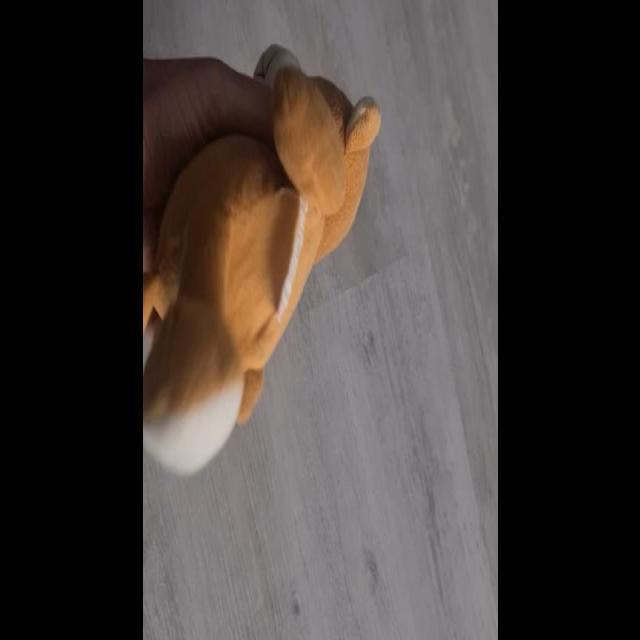soft-toy: (145, 50, 381, 474)
